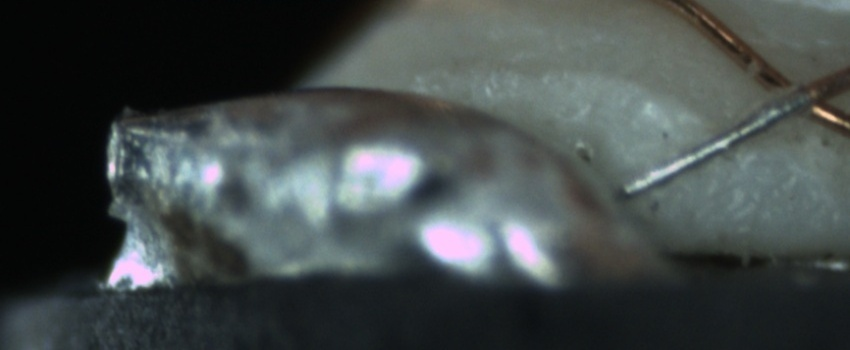CL: (752, 54, 846, 127)
TS: (613, 98, 794, 199)
